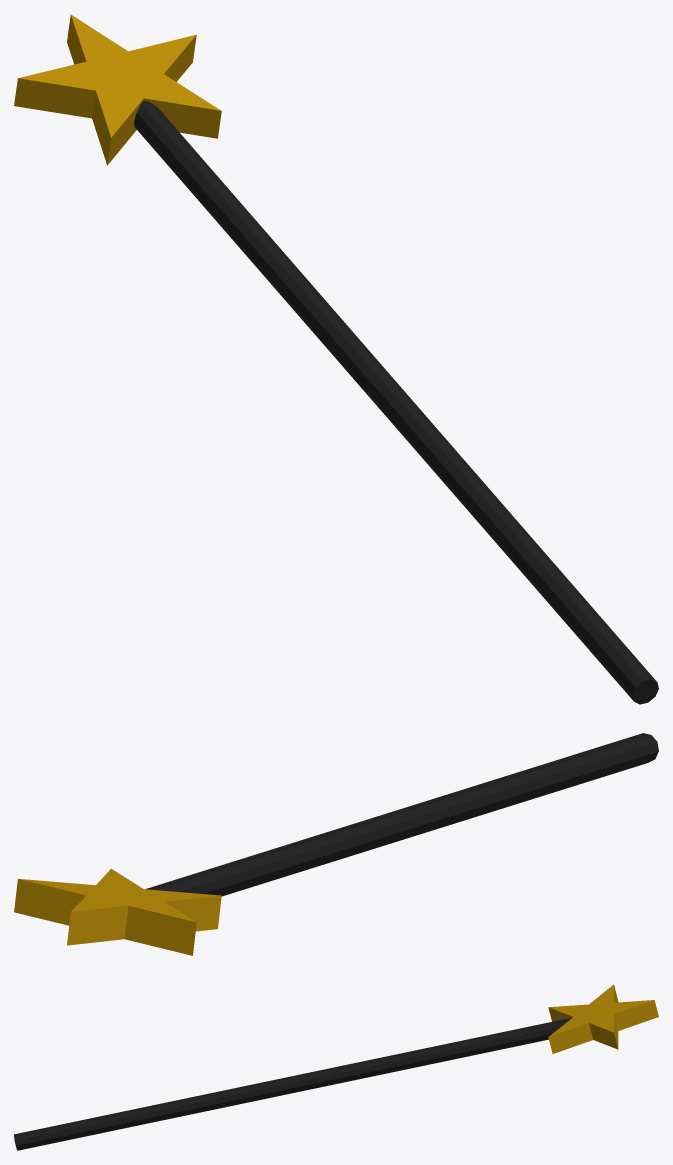
File: Wand01_v004.fbx
The picture shows the model from 3 angles, top to bottom: view 1: azimuth 30°, elevation 25°; view 2: azimuth 150°, elevation 25°; view 3: azimuth 270°, elevation 25°; orthographic projection. The views are drawn at different scales.
Parts seen in each view (by area): view 1: STICK_2, STAR_1; view 2: STICK_2, STAR_1; view 3: STICK_2, STAR_1.
Boxes of the visible parts, x1=… form: STICK_2: x1=134, y1=100, x2=658, y2=704; STAR_1: x1=14, y1=14, x2=221, y2=165; STICK_2: x1=145, y1=733, x2=658, y2=896; STAR_1: x1=14, y1=868, x2=221, y2=955; STICK_2: x1=14, y1=1017, x2=571, y2=1150; STAR_1: x1=548, y1=984, x2=658, y2=1053.
Size of the model in its own units: 5.23 by 7.53 by 29.41.
